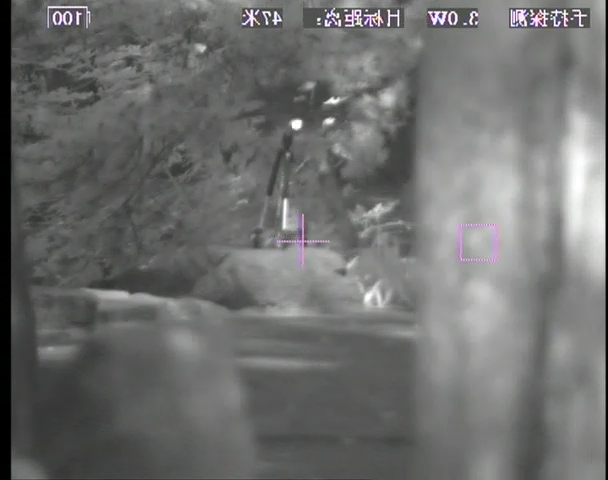my: (290, 118, 303, 132)
